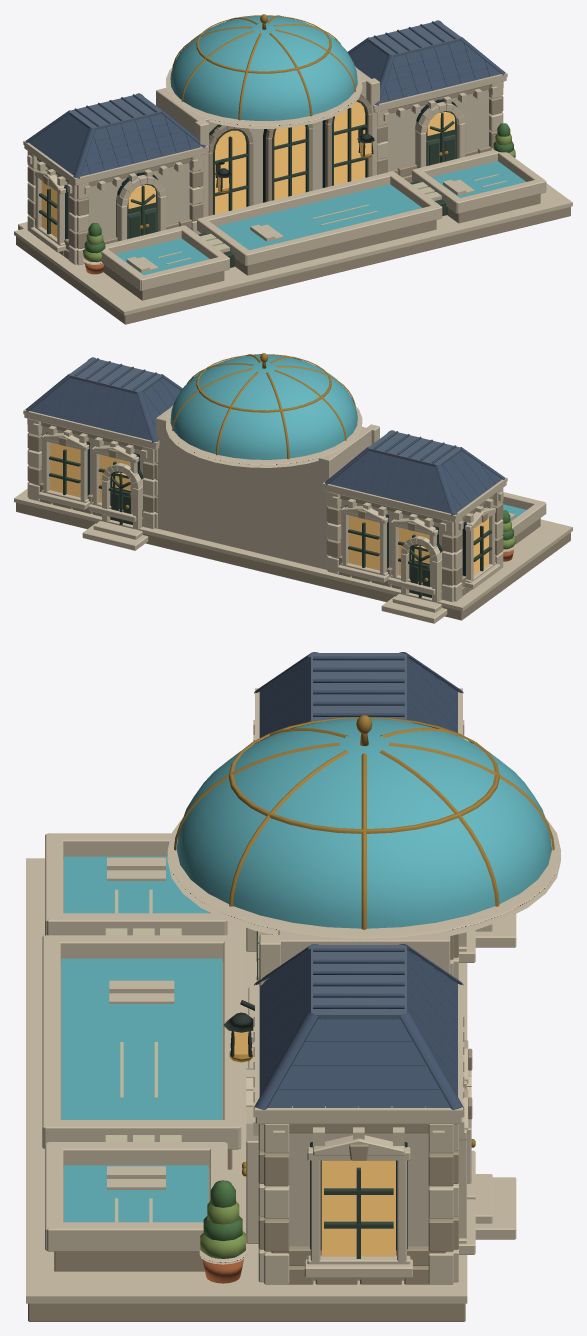
3 views of the same model, one above another, from view 1: azimuth 30°, elevation 25°; view 2: azimuth 150°, elevation 25°; view 3: azimuth 270°, elevation 25° (orthographic). The views are drawn at different scales.
Parts seen in each view (by area): view 1: classic_onsen_2_geometry, classic_onsen_2_geometry ceramic; view 2: classic_onsen_2_geometry, classic_onsen_2_geometry ceramic; view 3: classic_onsen_2_geometry, classic_onsen_2_geometry ceramic.
Boxes of the visible parts, bbox=[...] form: classic_onsen_2_geometry: bbox=[14, 14, 572, 324]; classic_onsen_2_geometry ceramic: bbox=[25, 20, 505, 178]; classic_onsen_2_geometry: bbox=[14, 353, 572, 623]; classic_onsen_2_geometry ceramic: bbox=[25, 357, 505, 515]; classic_onsen_2_geometry: bbox=[26, 688, 560, 1321]; classic_onsen_2_geometry ceramic: bbox=[254, 652, 463, 1109].
Bounding box in the file's own units: 1.98 × 0.8193 × 1.02.
